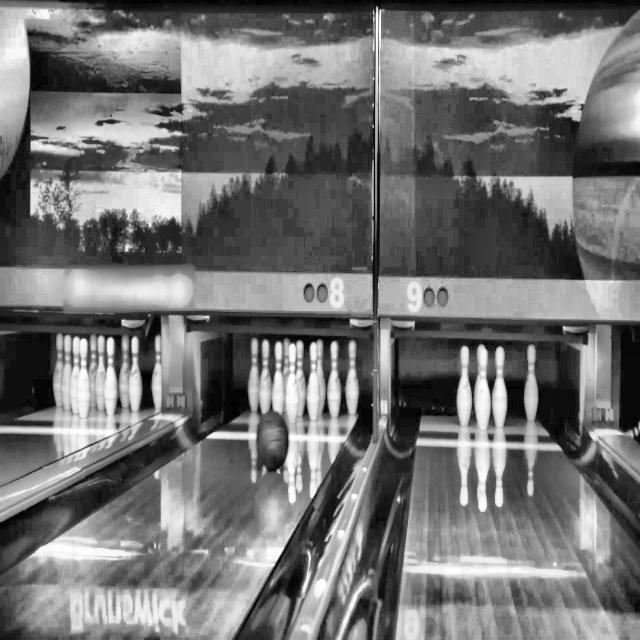bowling-ball: (256, 410, 289, 471)
bowling-pins: (475, 347, 491, 431), (492, 347, 507, 428), (457, 346, 472, 427), (285, 343, 299, 423), (76, 338, 90, 418), (327, 340, 341, 418), (525, 344, 539, 422), (103, 337, 117, 415), (307, 341, 320, 421), (128, 335, 141, 411), (272, 341, 285, 415), (346, 340, 359, 414), (259, 339, 271, 414), (94, 335, 105, 411), (248, 338, 259, 412), (52, 333, 63, 407), (118, 335, 129, 409), (69, 335, 79, 415), (296, 340, 306, 417), (151, 335, 161, 412), (61, 335, 71, 410), (317, 339, 326, 416), (88, 334, 97, 407), (283, 338, 290, 390)
